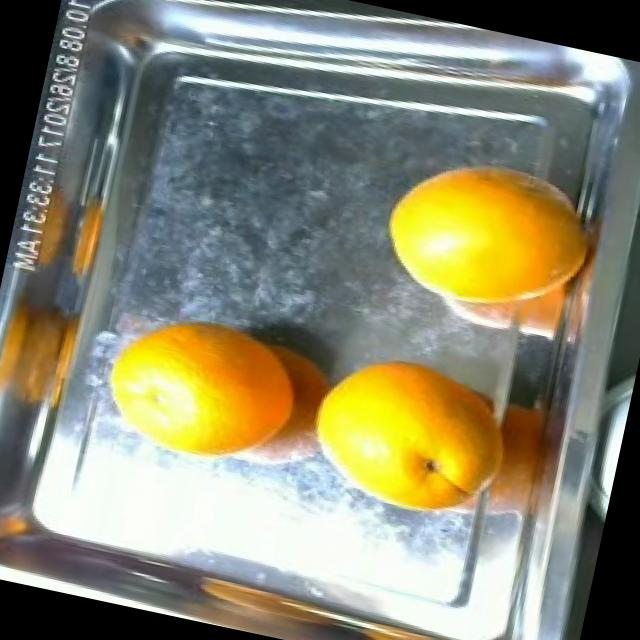Fruit: (75, 284, 314, 488), (362, 136, 564, 328), (0, 281, 79, 426)
